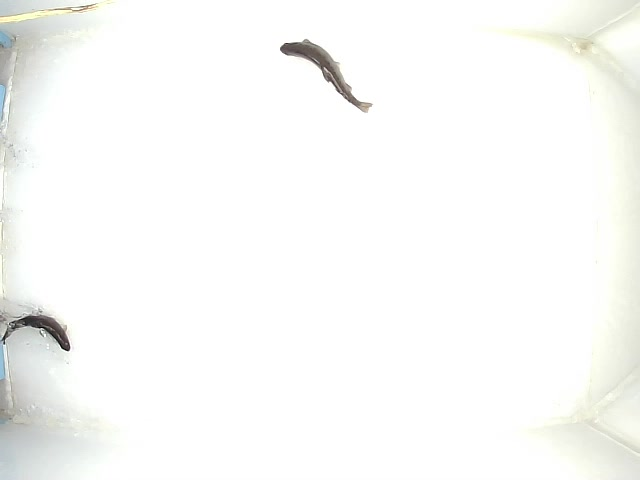fish: (280, 38, 373, 116), (1, 312, 71, 353)
